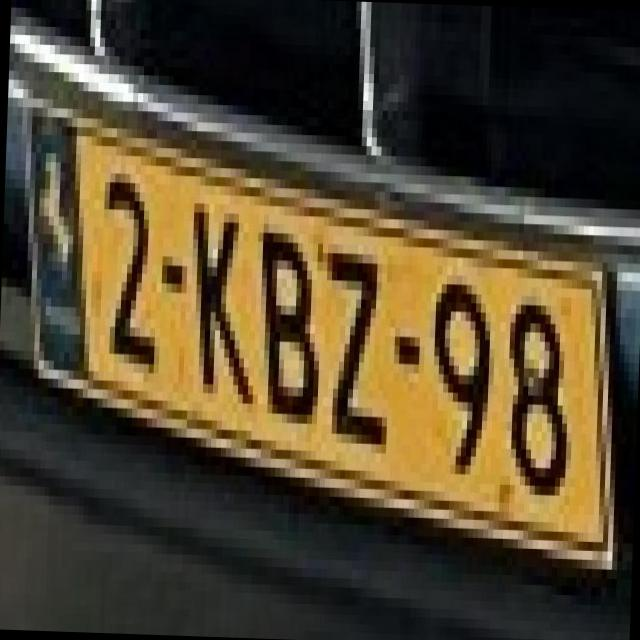2: (78, 146, 160, 364)
8: (489, 276, 572, 486)
9: (415, 256, 497, 466)
B: (242, 204, 324, 414)
D: (9, 89, 93, 352)
K: (178, 176, 255, 394)
Z: (311, 225, 388, 435)
